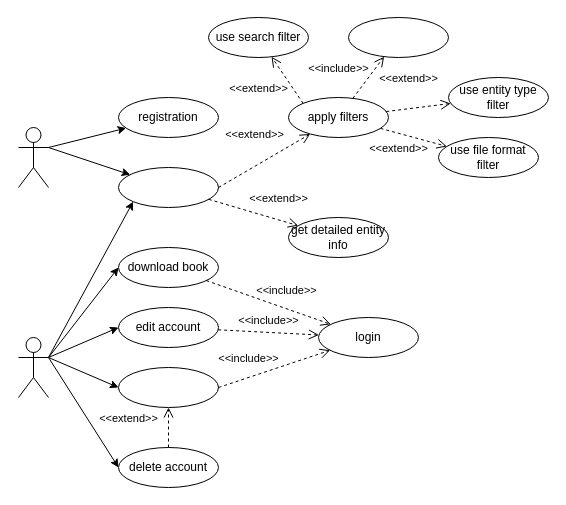
Image size: 566x505. Some labels were removed from this diagram. The centre of each missing label's shape, as x and y in pixels:
"Guest" belongs at (33,157).
"logout" belongs at (168,387).
"search info" belongs at (168,187).
"use sorting filter" belongs at (398,37).
"User" belongs at (33,367).
